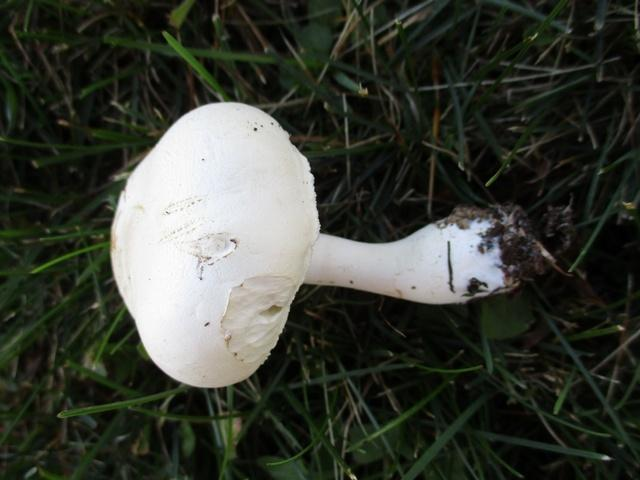Non-edible Mushroom: (107, 99, 548, 389)
